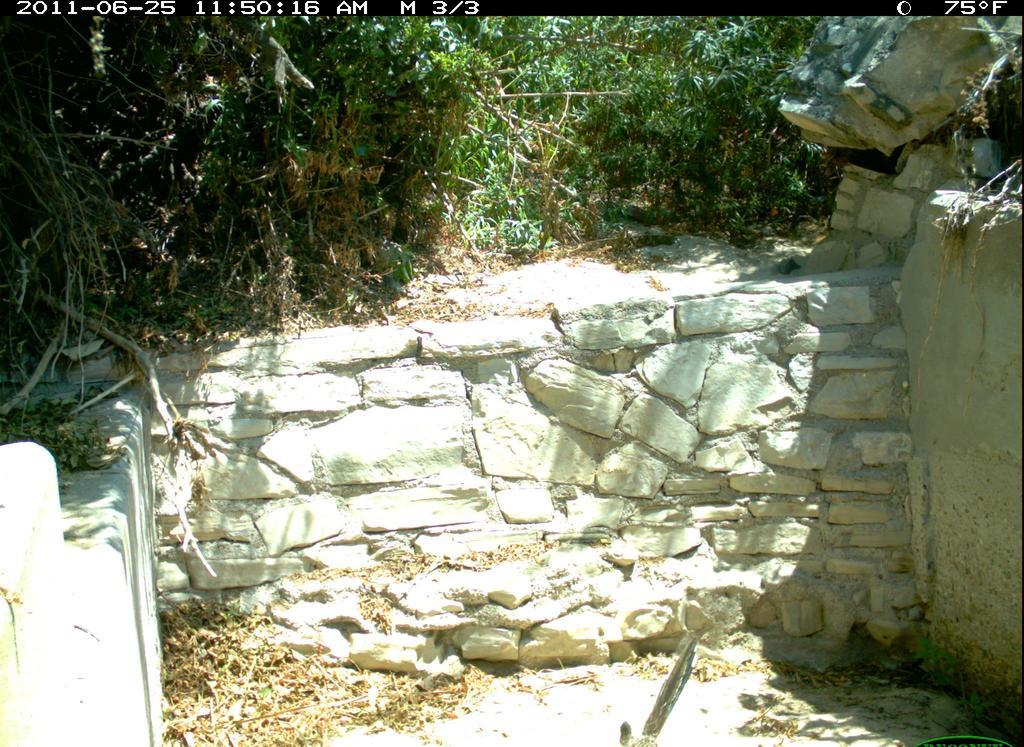bird: (613, 634, 702, 747)
